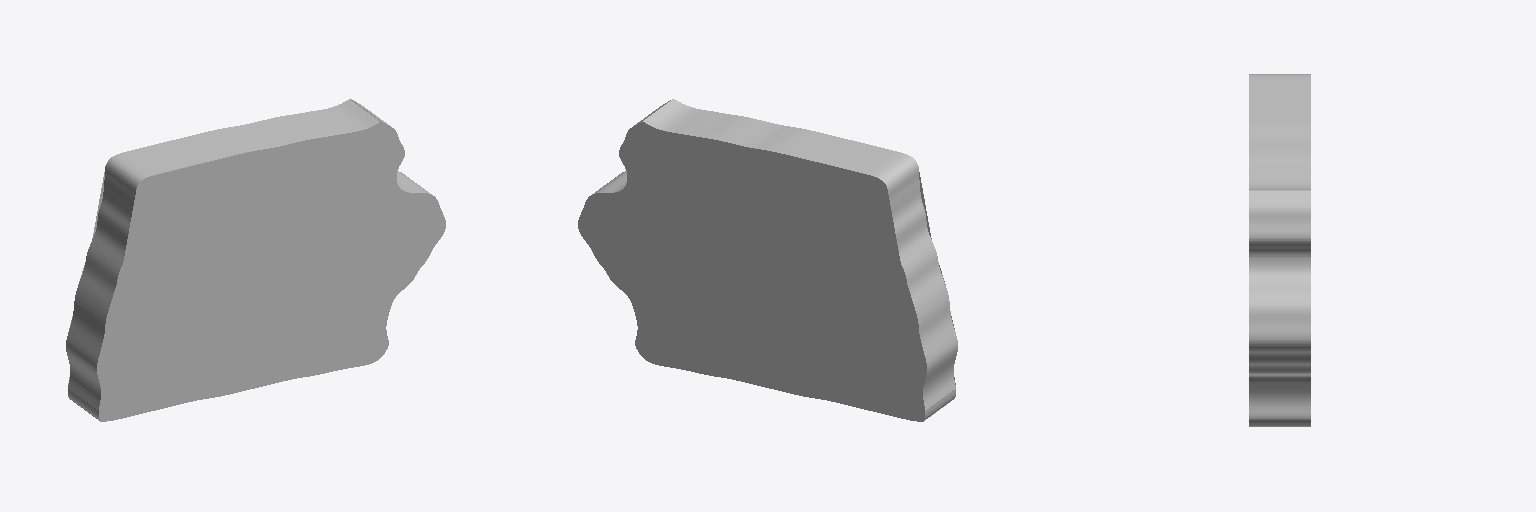
3 views of the same model, side by side, from view 1: azimuth 30°, elevation 25°; view 2: azimuth 150°, elevation 25°; view 3: azimuth 270°, elevation 25° (orthographic).
Parts seen in each view (by area): view 1: 平面; view 2: 平面; view 3: 平面.
Part boxes in pixels (bbox=[...]): 平面: bbox=[66, 99, 445, 421]; 平面: bbox=[578, 99, 957, 421]; 平面: bbox=[1249, 74, 1310, 426].
Bounding box in the file's own units: 1.3 × 0.86 × 0.2.